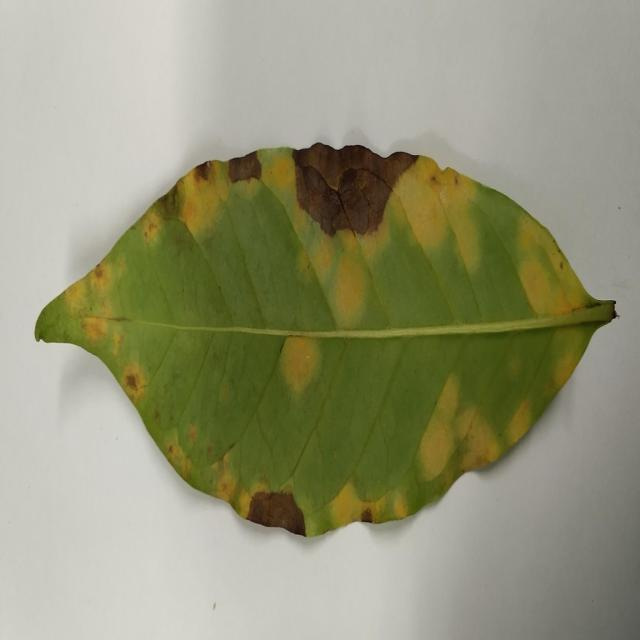phoma: (292, 143, 418, 236), (246, 489, 306, 536), (228, 151, 261, 182)
rust: (400, 156, 487, 278), (417, 376, 508, 483), (517, 214, 595, 317), (279, 336, 347, 397), (335, 251, 372, 328), (117, 364, 147, 399)
